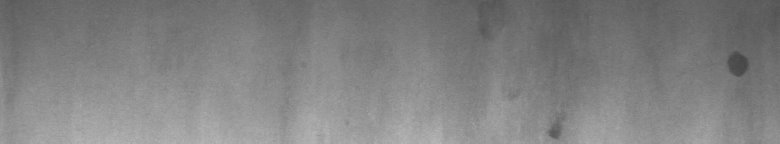fi: (721, 47, 752, 84)
